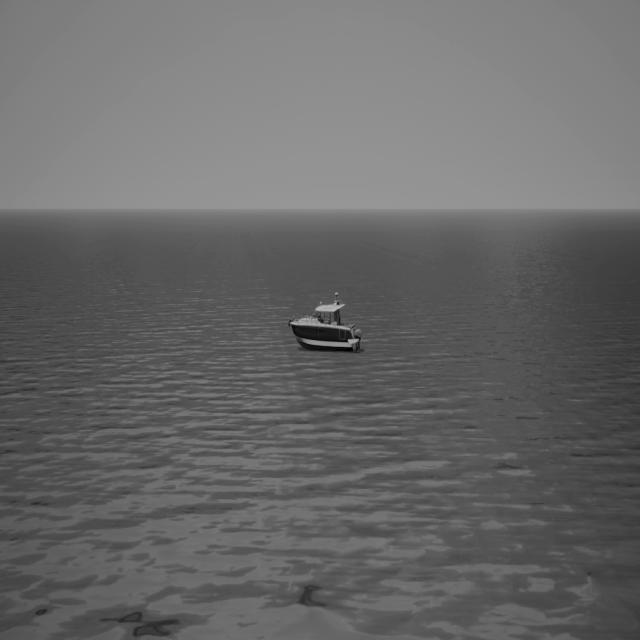ship: (288, 291, 362, 351)
